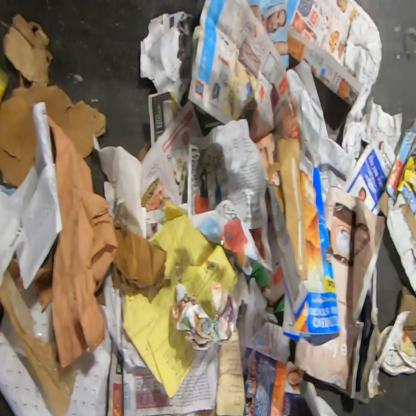cardboard: (0, 13, 107, 188), (0, 258, 76, 415), (377, 117, 416, 296), (396, 285, 415, 343)
